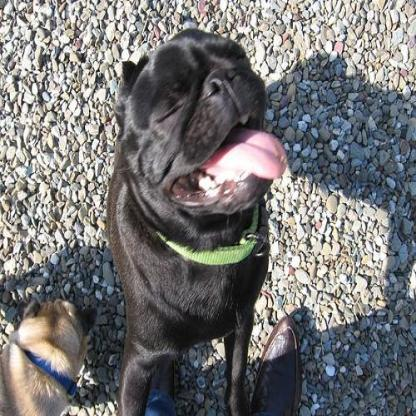pug: (104, 25, 285, 414)
